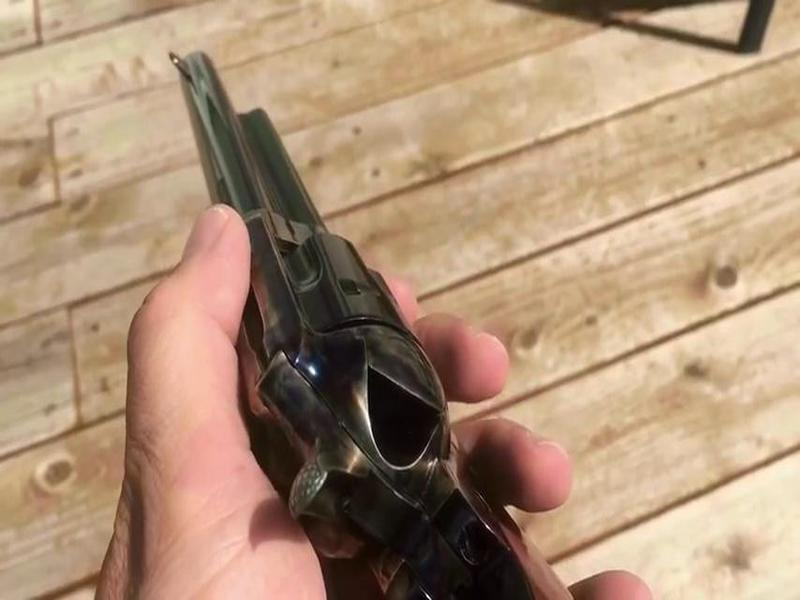Revolver: (153, 54, 477, 583)
